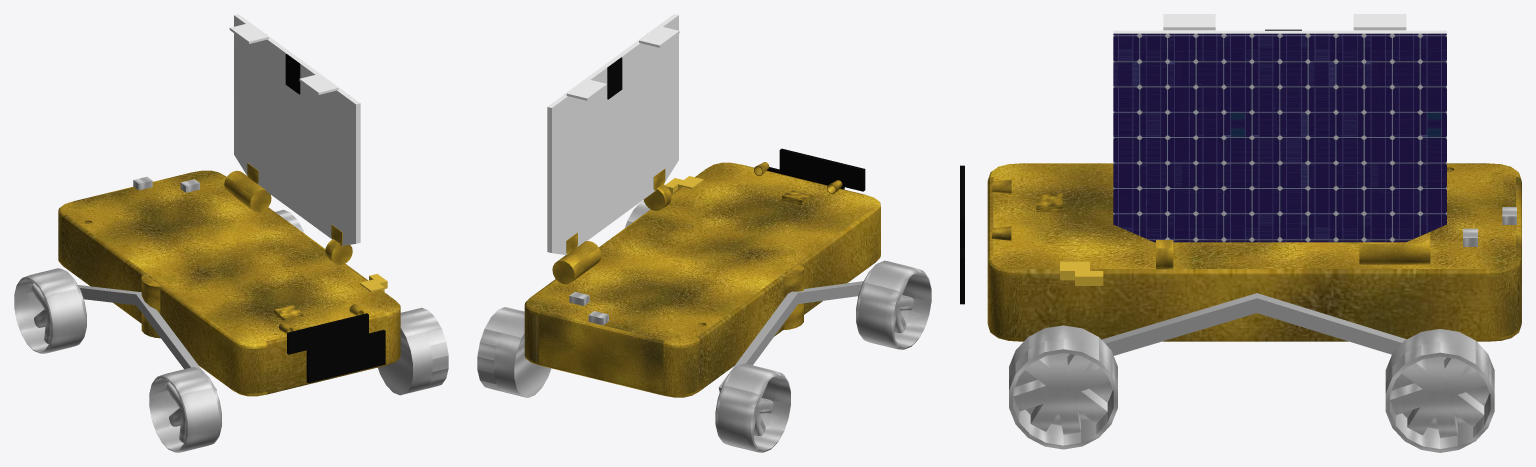
Rendered from india_pragyan_rover.glb.
3 renders of one model, left to right at view 1: azimuth 30°, elevation 25°; view 2: azimuth 150°, elevation 25°; view 3: azimuth 270°, elevation 25°, orthographic. The views are drawn at different scales.
Visible parts, largest first — view 1: Object_9, Object_4, Object_11, Object_12, Object_10, Object_13, Object_5, Object_3; view 2: Object_9, Object_4, Object_11, Object_12, Object_10, Object_13, Object_6, Object_3; view 3: Object_2, Object_9, Object_11, Object_10, Object_13, Object_3, Object_7, Object_12.
Boxes of the visible parts, x1,y1,x2,y2 form: Object_9: [58, 163, 400, 396]; Object_4: [234, 15, 355, 245]; Object_11: [14, 176, 448, 452]; Object_12: [285, 54, 385, 383]; Object_10: [78, 285, 216, 390]; Object_13: [229, 23, 338, 94]; Object_5: [356, 103, 360, 243]; Object_3: [234, 14, 359, 104]; Object_9: [524, 162, 880, 397]; Object_4: [552, 15, 678, 254]; Object_11: [477, 201, 931, 452]; Object_12: [607, 57, 865, 191]; Object_10: [718, 281, 863, 392]; Object_13: [566, 26, 679, 100]; Object_6: [547, 107, 551, 252]; Object_3: [547, 14, 678, 107]; Object_2: [1113, 33, 1446, 242]; Object_9: [987, 163, 1521, 341]; Object_11: [1009, 207, 1516, 452]; Object_10: [1102, 293, 1406, 355]; Object_13: [1163, 14, 1406, 30]; Object_3: [1113, 30, 1446, 33]; Object_7: [1060, 261, 1103, 285]; Object_12: [960, 29, 1301, 304].
Size of the model in its own units: 0.6727 by 0.7046 by 0.917.
6 materials, 3 textured.
